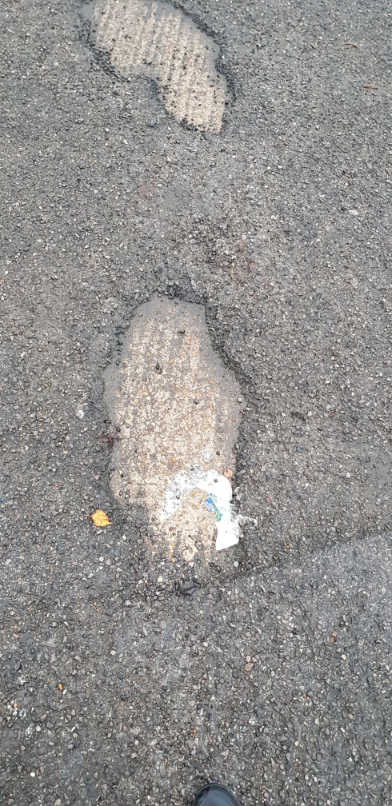pothole: (95, 284, 259, 570), (81, 1, 238, 139)
